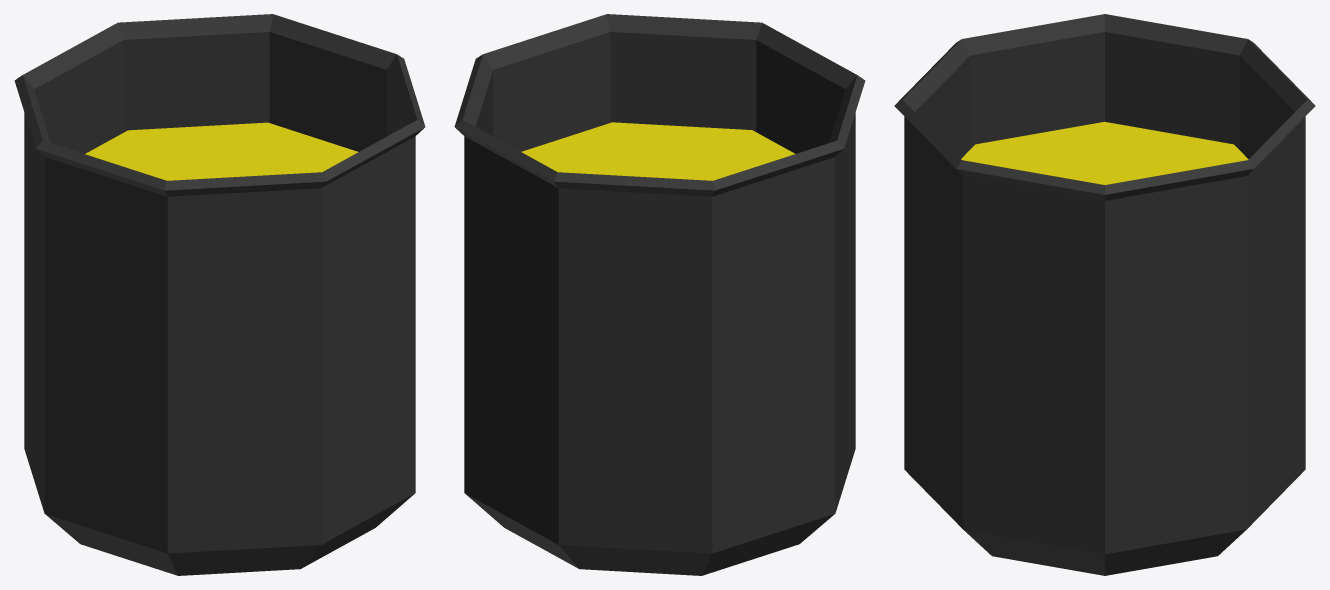
Rendered from Potion C.fbx.
3 renders of one model, left to right at view 1: azimuth 30°, elevation 25°; view 2: azimuth 150°, elevation 25°; view 3: azimuth 270°, elevation 25°, orthographic.
Visible parts, largest first — view 1: Cylinder.052, Cylinder.053; view 2: Cylinder.052, Cylinder.053; view 3: Cylinder.052, Cylinder.053.
Boxes of the visible parts, x1,y1,x2,y2 form: Cylinder.052: [14, 14, 425, 575]; Cylinder.053: [85, 122, 358, 180]; Cylinder.052: [454, 14, 865, 575]; Cylinder.053: [521, 122, 794, 180]; Cylinder.052: [894, 14, 1315, 575]; Cylinder.053: [961, 121, 1248, 184].
Size of the model in its own units: 33.32 by 35.66 by 33.32.
2 materials, 1 textured.
